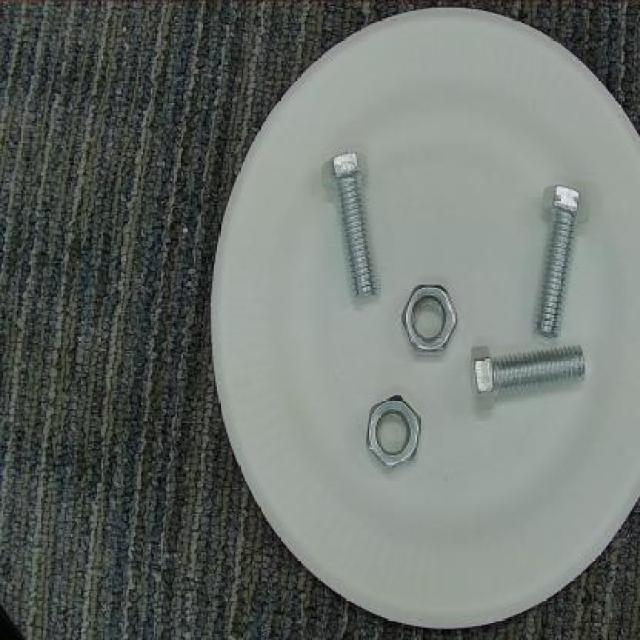Bolt: (321, 146, 382, 305), (527, 183, 588, 342), (467, 342, 597, 411)
Nut: (361, 394, 426, 471), (401, 280, 462, 358)
